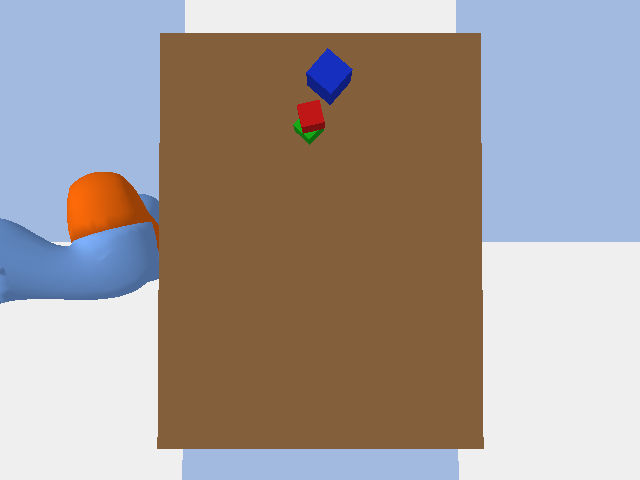blue_obj: (306, 48, 352, 104)
green_obj: (293, 119, 323, 144)
red_obj: (297, 100, 324, 133)
